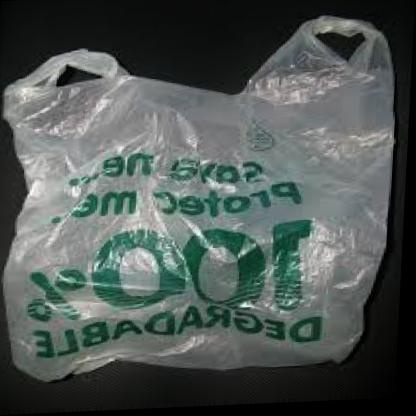trash: (4, 16, 393, 380)
